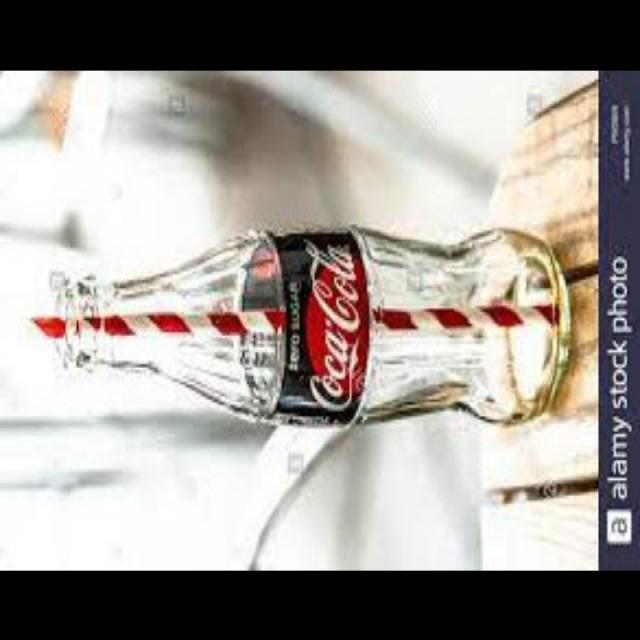Glass: (44, 221, 576, 432)
